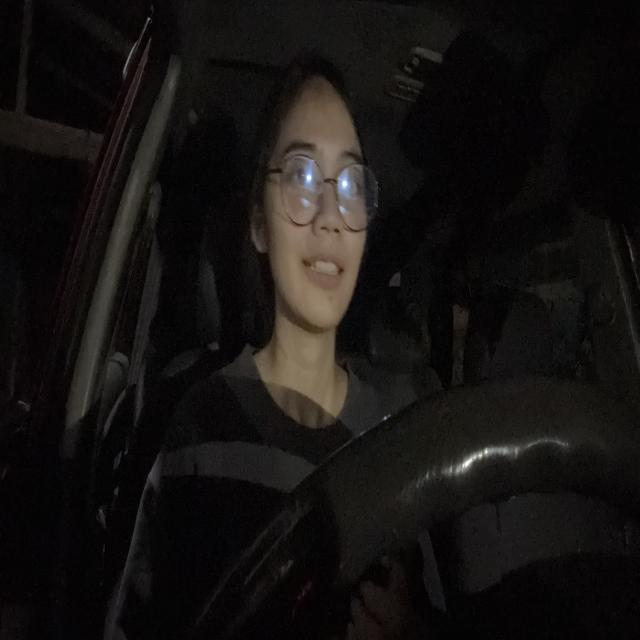open: (278, 138, 320, 202), (331, 148, 364, 210)
